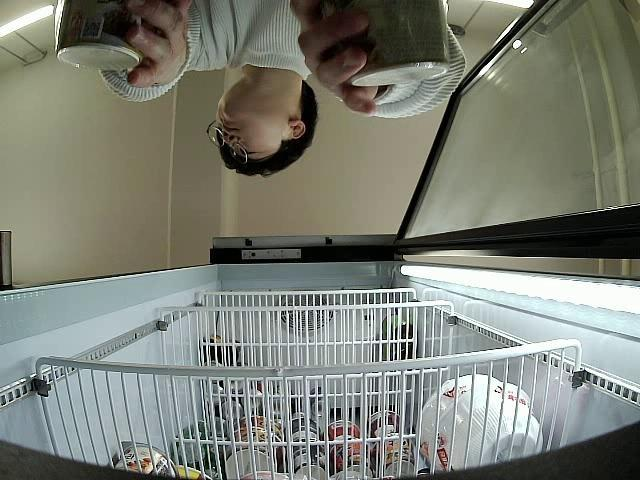04_chapagetti_S: (320, 0, 449, 85), (54, 0, 144, 73)
